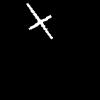single_crochet: (27, 4, 52, 38)
